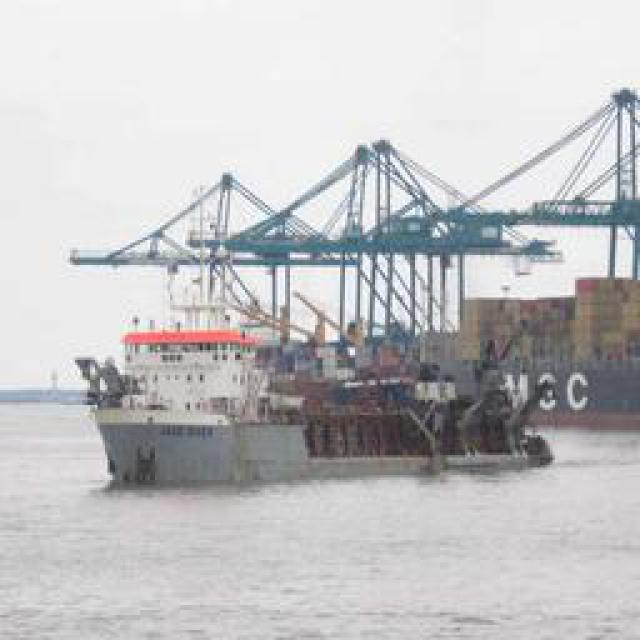Ship: (67, 190, 566, 490)
